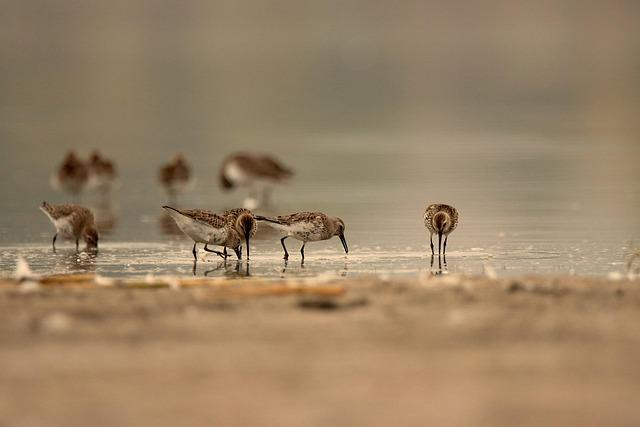Non_Gorille: (29, 77, 509, 369)
